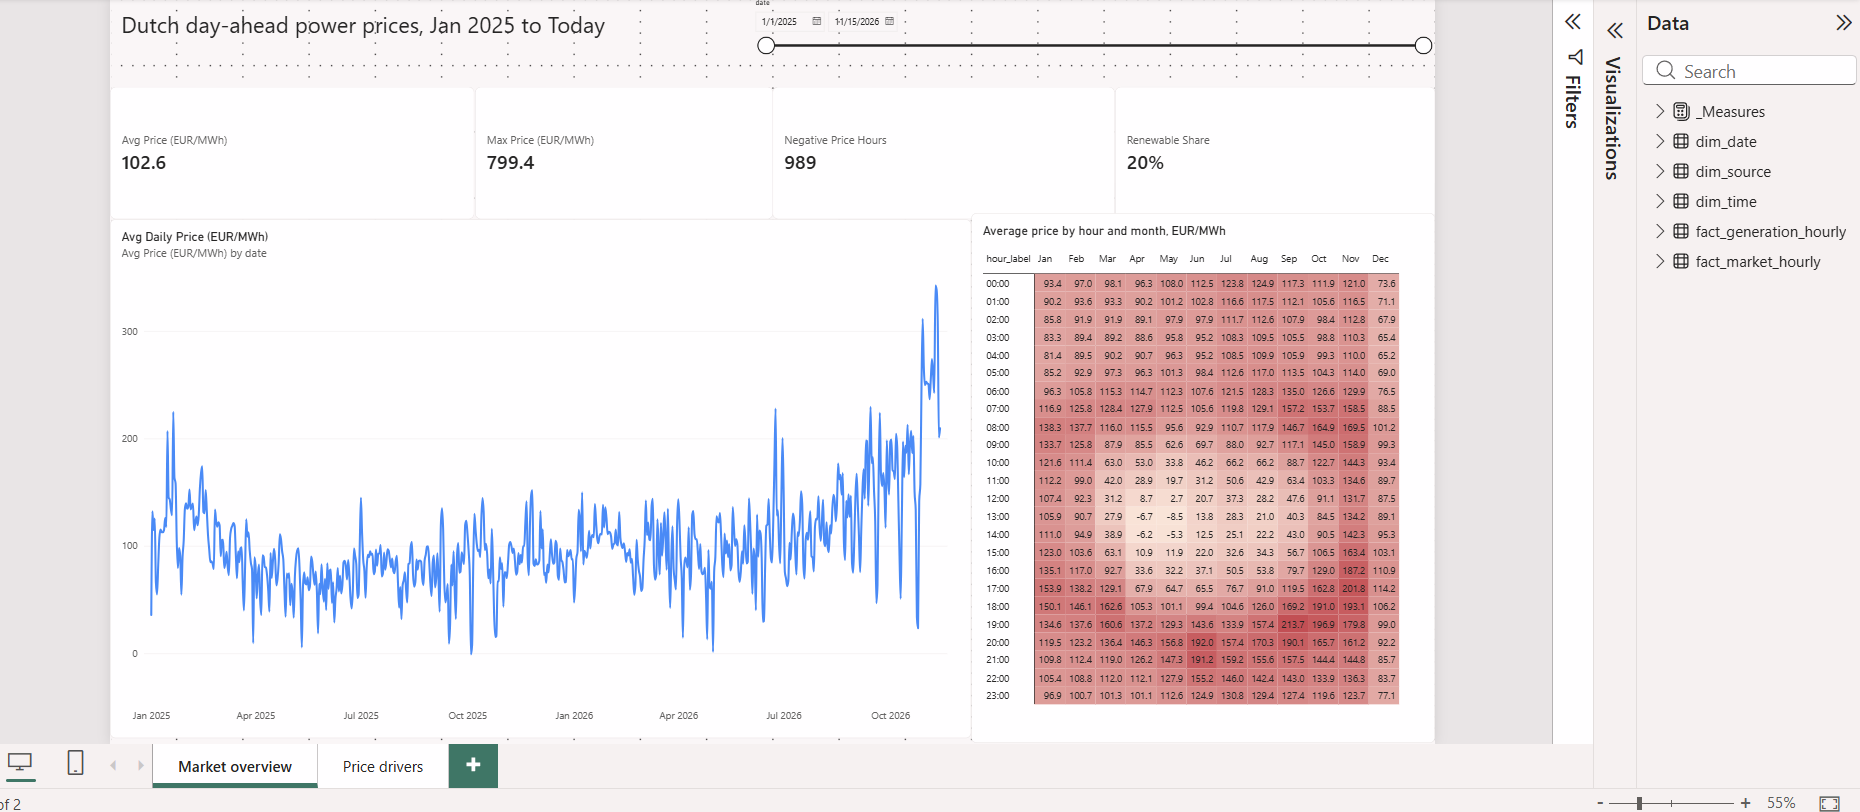

Layout of this report page (visuals, bound fields, positions):
{"tool":"powerbi","page":{"name":"Market overview","canvas":[1920,1080],"ordinal":0},"visuals":[{"type":"textbox","box":[16,16,704,80],"z":0},{"type":"cardVisual","fields":{"Data":["_Measures.Avg Price (EUR/MWh)"]},"box":[0,128,528,192],"z":1000},{"type":"cardVisual","fields":{"Data":["_Measures.Max Price (EUR/MWh)"]},"box":[528,128,432,192],"z":2000},{"type":"cardVisual","fields":{"Data":["_Measures.Negative Price Hours"]},"box":[960,128,496,192],"z":3000},{"type":"cardVisual","fields":{"Data":["_Measures.Renewable Share"]},"box":[1456,128,464,192],"z":4000},{"type":"lineChart","title":"Avg Daily Price (EUR/MWh)","fields":{"Category":["dim_date.date"],"Y":["_Measures.Avg Price (EUR/MWh)"]},"box":[0,320,1248,752],"z":5000},{"type":"pivotTable","title":"Average price by hour and month, EUR/MWh","fields":{"Columns":["dim_date.month_name"],"Rows":["dim_time.hour_label"],"Values":["_Measures.Avg Price (EUR/MWh)"]},"box":[1248,312,672,768],"z":6000},{"type":"slicer","fields":{"Values":["dim_date.date"]},"box":[928,0,992,128],"z":6001}]}

Visuals, with their boxes on the page's 1920x1080 design canvas (x1, y1, x2, y2). These are canvas units, not pixel positions in the 1860x812 screenshot, which may show the page scaled, cropped or inside an application window:
textbox: bbox=(16, 16, 720, 96)
cardVisual - _Measures.Avg Price (EUR/MWh): bbox=(0, 128, 528, 320)
cardVisual - _Measures.Max Price (EUR/MWh): bbox=(528, 128, 960, 320)
cardVisual - _Measures.Negative Price Hours: bbox=(960, 128, 1456, 320)
cardVisual - _Measures.Renewable Share: bbox=(1456, 128, 1920, 320)
"Avg Daily Price (EUR/MWh)" lineChart: bbox=(0, 320, 1248, 1072)
"Average price by hour and month, EUR/MWh" pivotTable: bbox=(1248, 312, 1920, 1080)
slicer - dim_date.date: bbox=(928, 0, 1920, 128)
